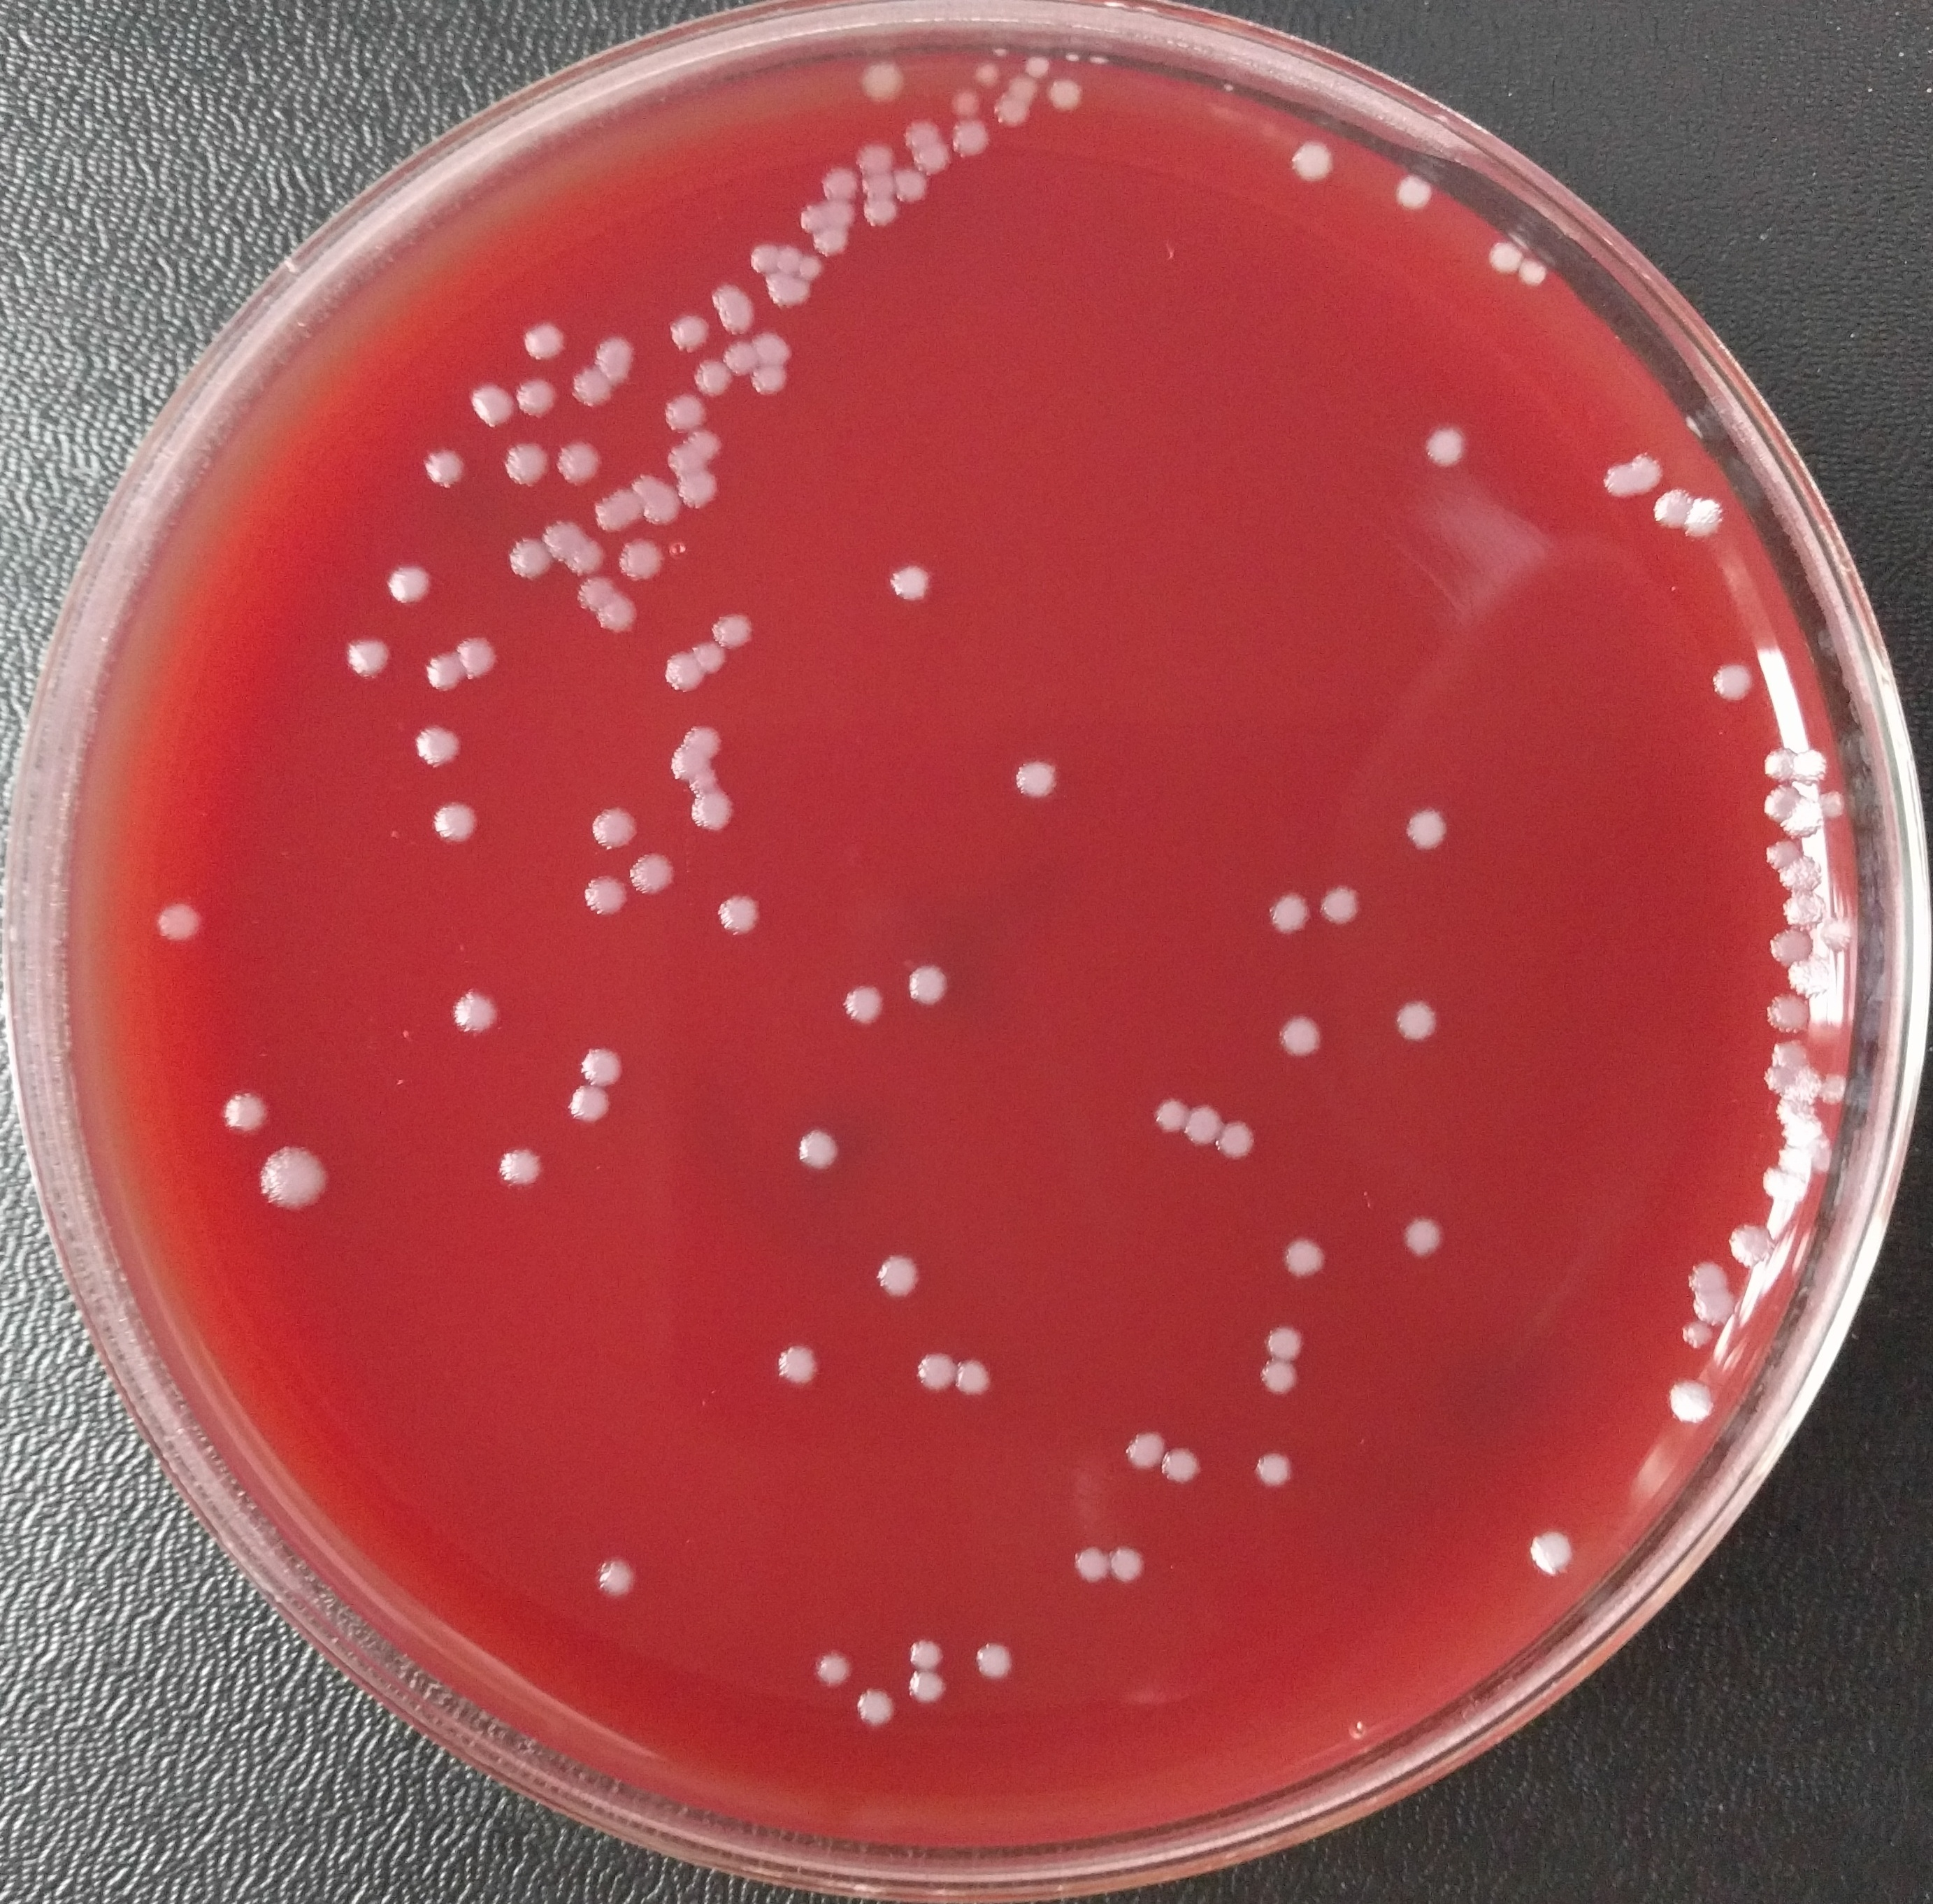sp15: (256, 1140, 336, 1215), (1283, 133, 1342, 195), (711, 891, 777, 940), (1419, 420, 1473, 478), (629, 471, 682, 530), (1279, 1233, 1335, 1285), (577, 874, 636, 922), (464, 382, 518, 434), (1265, 887, 1316, 943), (554, 434, 605, 490), (1009, 757, 1068, 804), (406, 724, 465, 771), (220, 1086, 274, 1137), (450, 628, 500, 682), (493, 1146, 551, 1193), (340, 636, 404, 678), (682, 792, 746, 833), (627, 851, 680, 901), (709, 281, 758, 335), (833, 982, 889, 1029), (1529, 1526, 1576, 1581), (873, 1250, 924, 1301), (791, 1125, 842, 1175), (1178, 1102, 1229, 1153), (593, 485, 645, 534), (560, 1078, 614, 1125), (422, 649, 478, 694), (155, 898, 206, 947), (589, 807, 638, 858), (655, 649, 704, 699), (617, 535, 668, 584), (502, 441, 553, 490), (1276, 1008, 1328, 1055), (385, 563, 437, 610), (519, 317, 572, 364), (451, 989, 505, 1034), (431, 795, 485, 840), (1318, 882, 1368, 929), (1727, 1219, 1778, 1266), (591, 1552, 636, 1604), (1708, 661, 1760, 706), (901, 961, 957, 1003), (422, 446, 469, 495), (851, 1684, 901, 1730), (1401, 1212, 1447, 1262), (1405, 807, 1452, 854), (859, 56, 906, 103), (1766, 989, 1813, 1036), (1251, 1445, 1297, 1494), (885, 563, 934, 609), (1666, 1377, 1715, 1423), (772, 1341, 823, 1384), (577, 1043, 627, 1086), (1156, 1445, 1203, 1491), (1393, 999, 1438, 1046), (706, 605, 753, 650), (811, 1642, 854, 1691), (594, 333, 638, 382), (570, 364, 619, 408), (1215, 1121, 1265, 1163), (1257, 1322, 1309, 1362), (967, 1637, 1014, 1681), (1394, 169, 1438, 216), (509, 534, 553, 581), (516, 377, 565, 418), (1780, 795, 1821, 844), (1771, 858, 1825, 894), (1107, 1541, 1150, 1587), (953, 1357, 997, 1402), (913, 1350, 957, 1395), (1687, 499, 1734, 541), (1122, 1426, 1163, 1475), (544, 509, 584, 558), (1818, 915, 1862, 959), (905, 1669, 950, 1710), (1785, 957, 1832, 997), (662, 392, 711, 431), (1778, 891, 1827, 929), (1253, 1363, 1306, 1398), (596, 593, 638, 636), (1689, 1290, 1736, 1329), (566, 537, 605, 584), (666, 745, 715, 781), (678, 473, 720, 514), (1597, 462, 1637, 506), (905, 1634, 950, 1672), (688, 356, 736, 392), (763, 272, 812, 307), (680, 722, 725, 758), (953, 117, 994, 157), (1764, 785, 1804, 825), (901, 113, 943, 152), (1070, 1541, 1107, 1585), (666, 314, 709, 350), (575, 577, 615, 615), (1658, 486, 1694, 528), (1046, 77, 1088, 113), (821, 162, 863, 199), (912, 139, 953, 176), (861, 197, 905, 232), (1687, 1257, 1731, 1292), (1771, 929, 1814, 964), (1485, 237, 1523, 275), (1626, 453, 1666, 490), (692, 642, 732, 678), (753, 328, 793, 364), (854, 141, 898, 174), (1152, 1091, 1185, 1133), (1762, 837, 1804, 870), (666, 441, 709, 473), (1792, 748, 1828, 785), (722, 338, 756, 375), (894, 171, 931, 206), (1767, 1039, 1813, 1067), (685, 431, 727, 460), (990, 98, 1032, 127), (826, 199, 861, 234), (814, 228, 851, 262), (1764, 745, 1795, 783), (749, 366, 790, 396), (1679, 1322, 1715, 1353), (1006, 71, 1037, 106), (774, 241, 802, 277), (1821, 1071, 1848, 1109), (688, 769, 722, 799), (749, 242, 779, 275), (1820, 786, 1846, 823), (1522, 258, 1551, 289), (1764, 1067, 1795, 1095), (798, 202, 826, 234), (973, 59, 1004, 85), (797, 255, 828, 281), (953, 89, 983, 115), (1025, 52, 1051, 78), (1088, 52, 1112, 73), (1060, 49, 1084, 68), (994, 49, 1009, 58)
